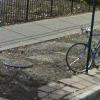Bicycle: (57, 34, 96, 84)
